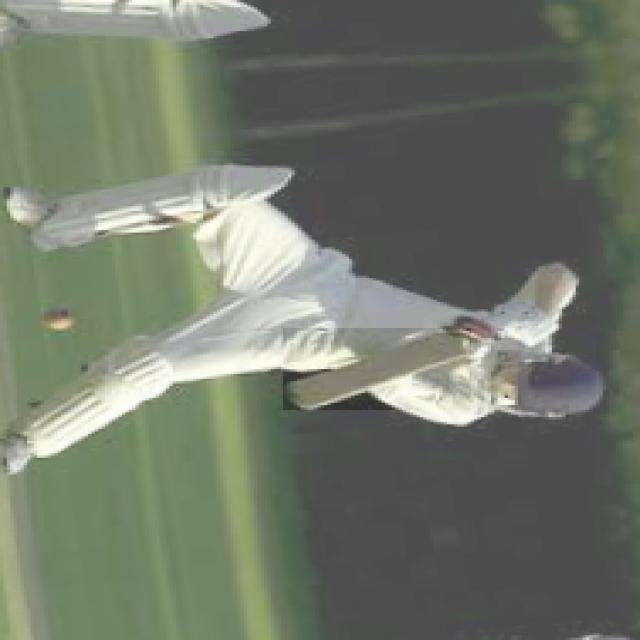bat: (275, 328, 470, 414)
